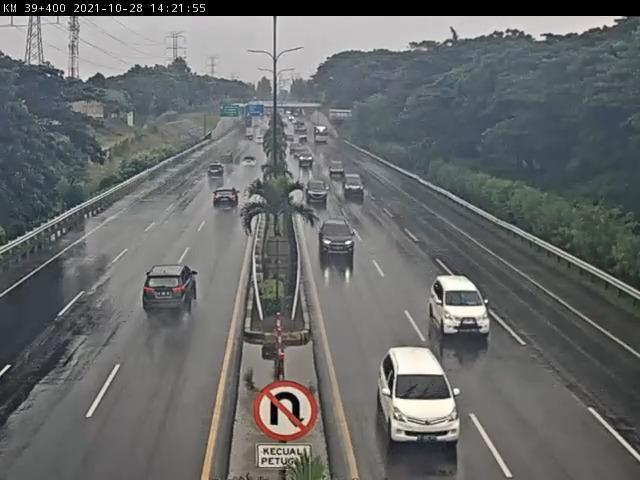car: (376, 349, 463, 446), (430, 276, 490, 336), (143, 264, 195, 311), (321, 219, 358, 260), (305, 178, 331, 204), (341, 172, 365, 198), (214, 188, 241, 211), (327, 159, 347, 179), (207, 162, 227, 180), (299, 151, 316, 171), (241, 155, 259, 172)
